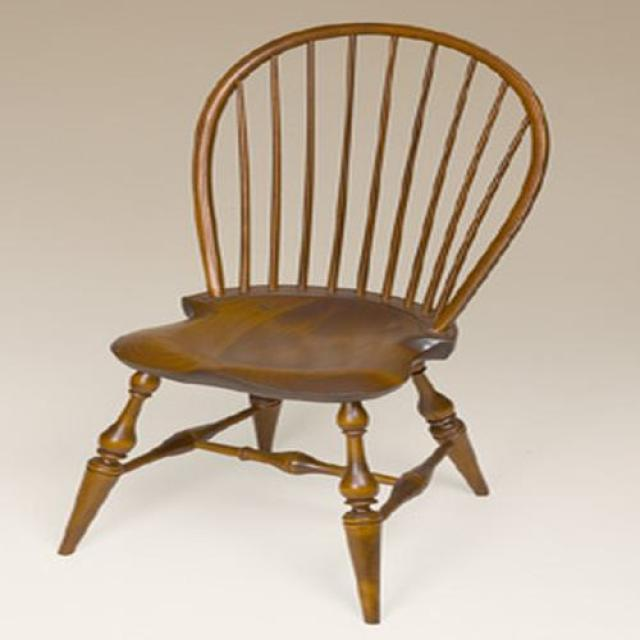chair: (60, 23, 553, 627)
